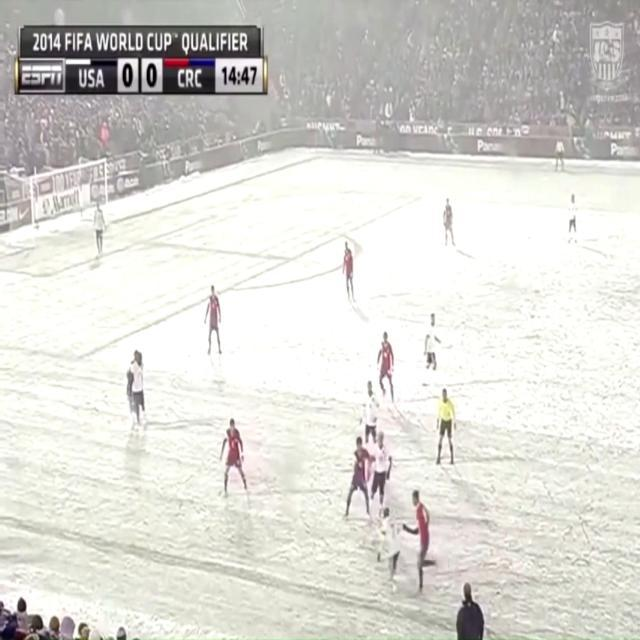goalkeeper: (92, 196, 109, 263)
player: (403, 479, 437, 593), (220, 414, 253, 507), (377, 498, 405, 598), (350, 432, 375, 532), (203, 281, 226, 362), (377, 328, 400, 409), (360, 371, 381, 452), (373, 429, 389, 516), (424, 309, 444, 378), (442, 194, 462, 262), (340, 238, 359, 303), (128, 346, 141, 428), (565, 192, 583, 250), (135, 356, 148, 431)
referee: (436, 384, 459, 474), (551, 136, 568, 176)
